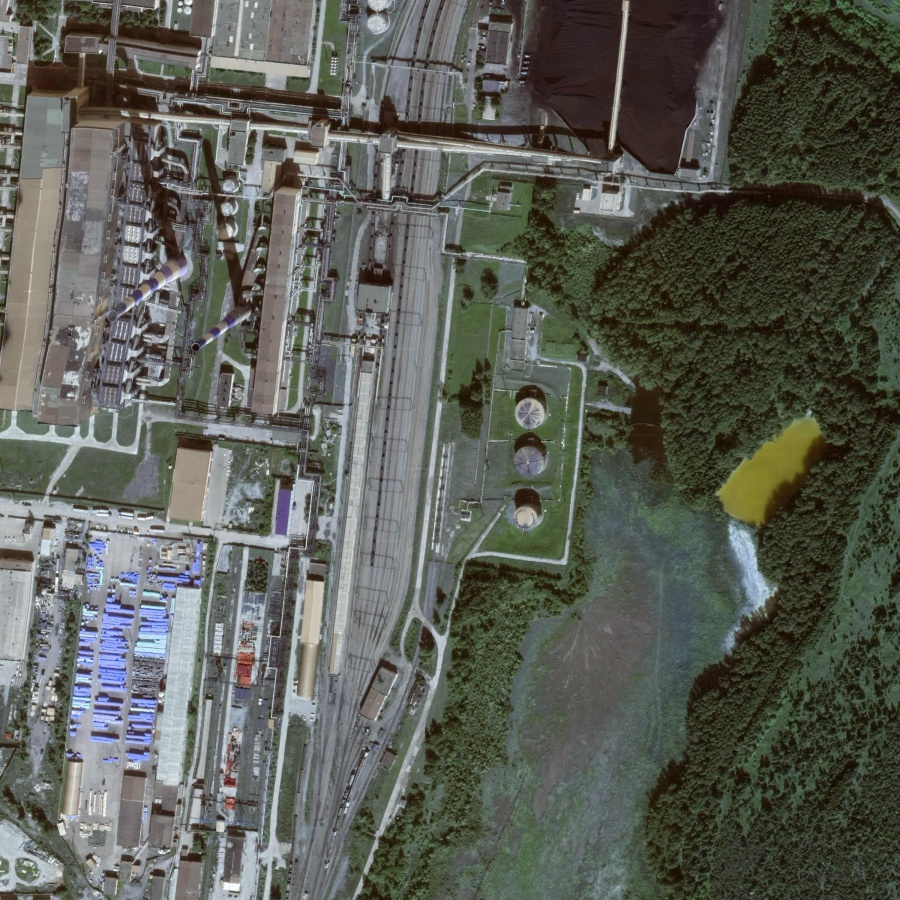PowerPlant: (76, 54, 330, 382), (436, 371, 584, 546)
